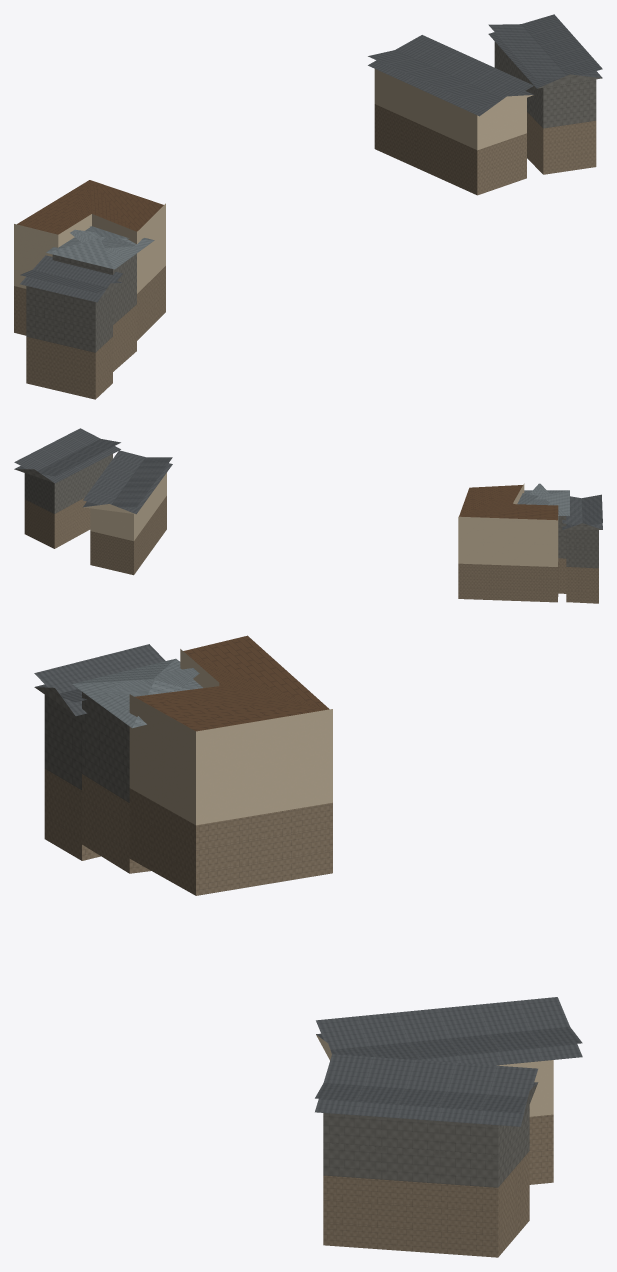
Rendered from bld_c22_45_387.gltf.
The picture shows the model from 3 angles, top to bottom: view 1: azimuth 30°, elevation 25°; view 2: azimuth 150°, elevation 25°; view 3: azimuth 270°, elevation 25°; orthographic projection. The views are drawn at different scales.
Parts seen in each view (by area): view 1: bld_c22_45_387; view 2: bld_c22_45_387; view 3: bld_c22_45_387.
Part boxes in pixels (left/top/right/bottom): bld_c22_45_387: left=14, top=14, right=602, bottom=399; bld_c22_45_387: left=14, top=428, right=602, bottom=603; bld_c22_45_387: left=34, top=635, right=582, bottom=1257.
Size of the model in its own units: 75.01 by 14.18 by 35.92.
8 materials, 8 textured.
